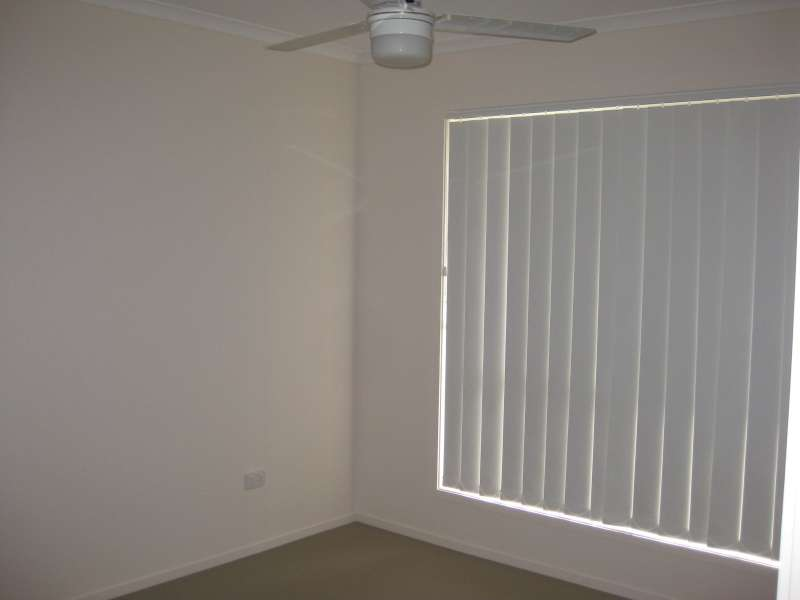ceiling fan: (242, 1, 609, 85)
